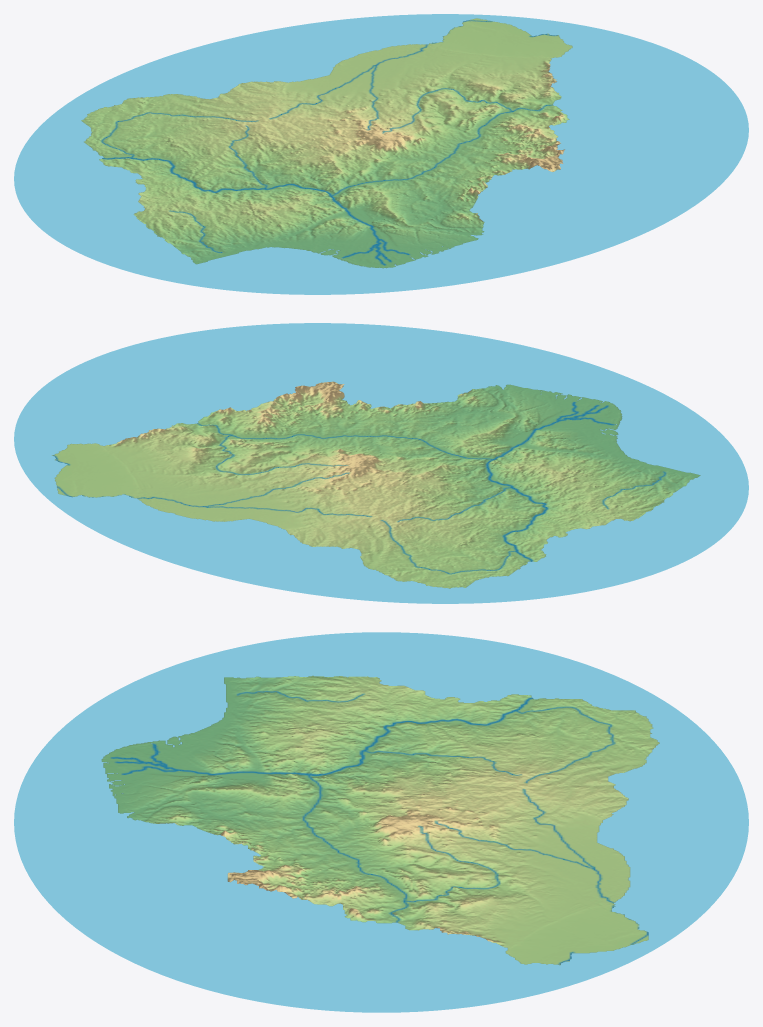
The model's file is NGA-terrain.glb.
3 renders of one model, top to bottom at view 1: azimuth 30°, elevation 25°; view 2: azimuth 150°, elevation 25°; view 3: azimuth 270°, elevation 25°, orthographic. The views are drawn at different scales.
Parts seen in each view (by area): view 1: Relevo com hidrografia; view 2: Relevo com hidrografia; view 3: Relevo com hidrografia.
Part boxes in pixels (x1,y1,x2,y2): Relevo com hidrografia: (14,14,748,294); Relevo com hidrografia: (14,323,748,603); Relevo com hidrografia: (14,632,748,1012).
Size of the model in its own units: 2.11 by 0.03 by 1.72.
Materials: 2 (1 with a texture image).
